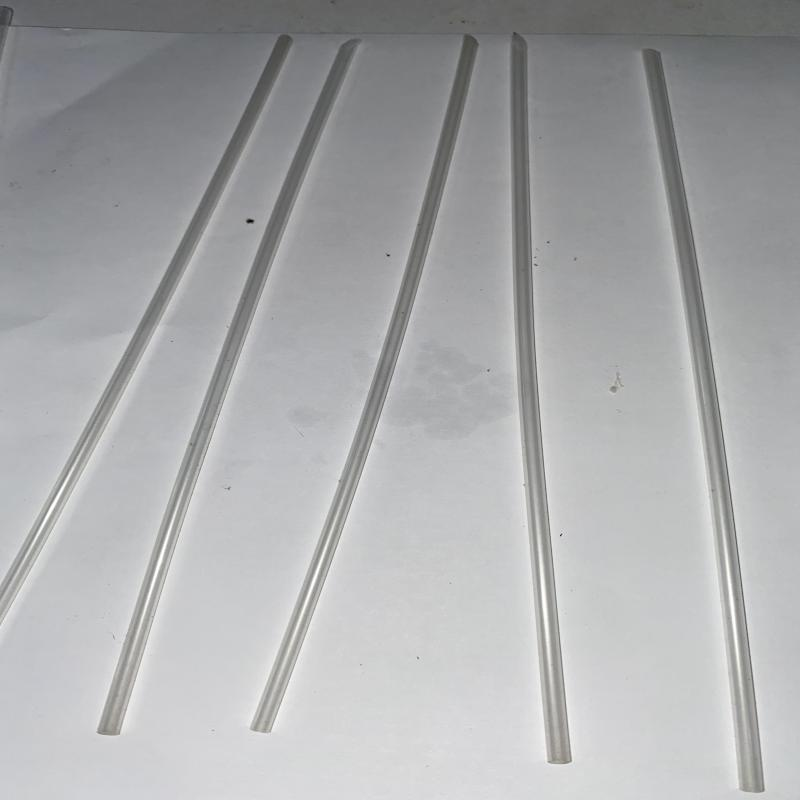plastic straw: (94, 38, 364, 743), (1, 35, 296, 624), (247, 33, 480, 734), (643, 45, 762, 791), (511, 30, 575, 761)
